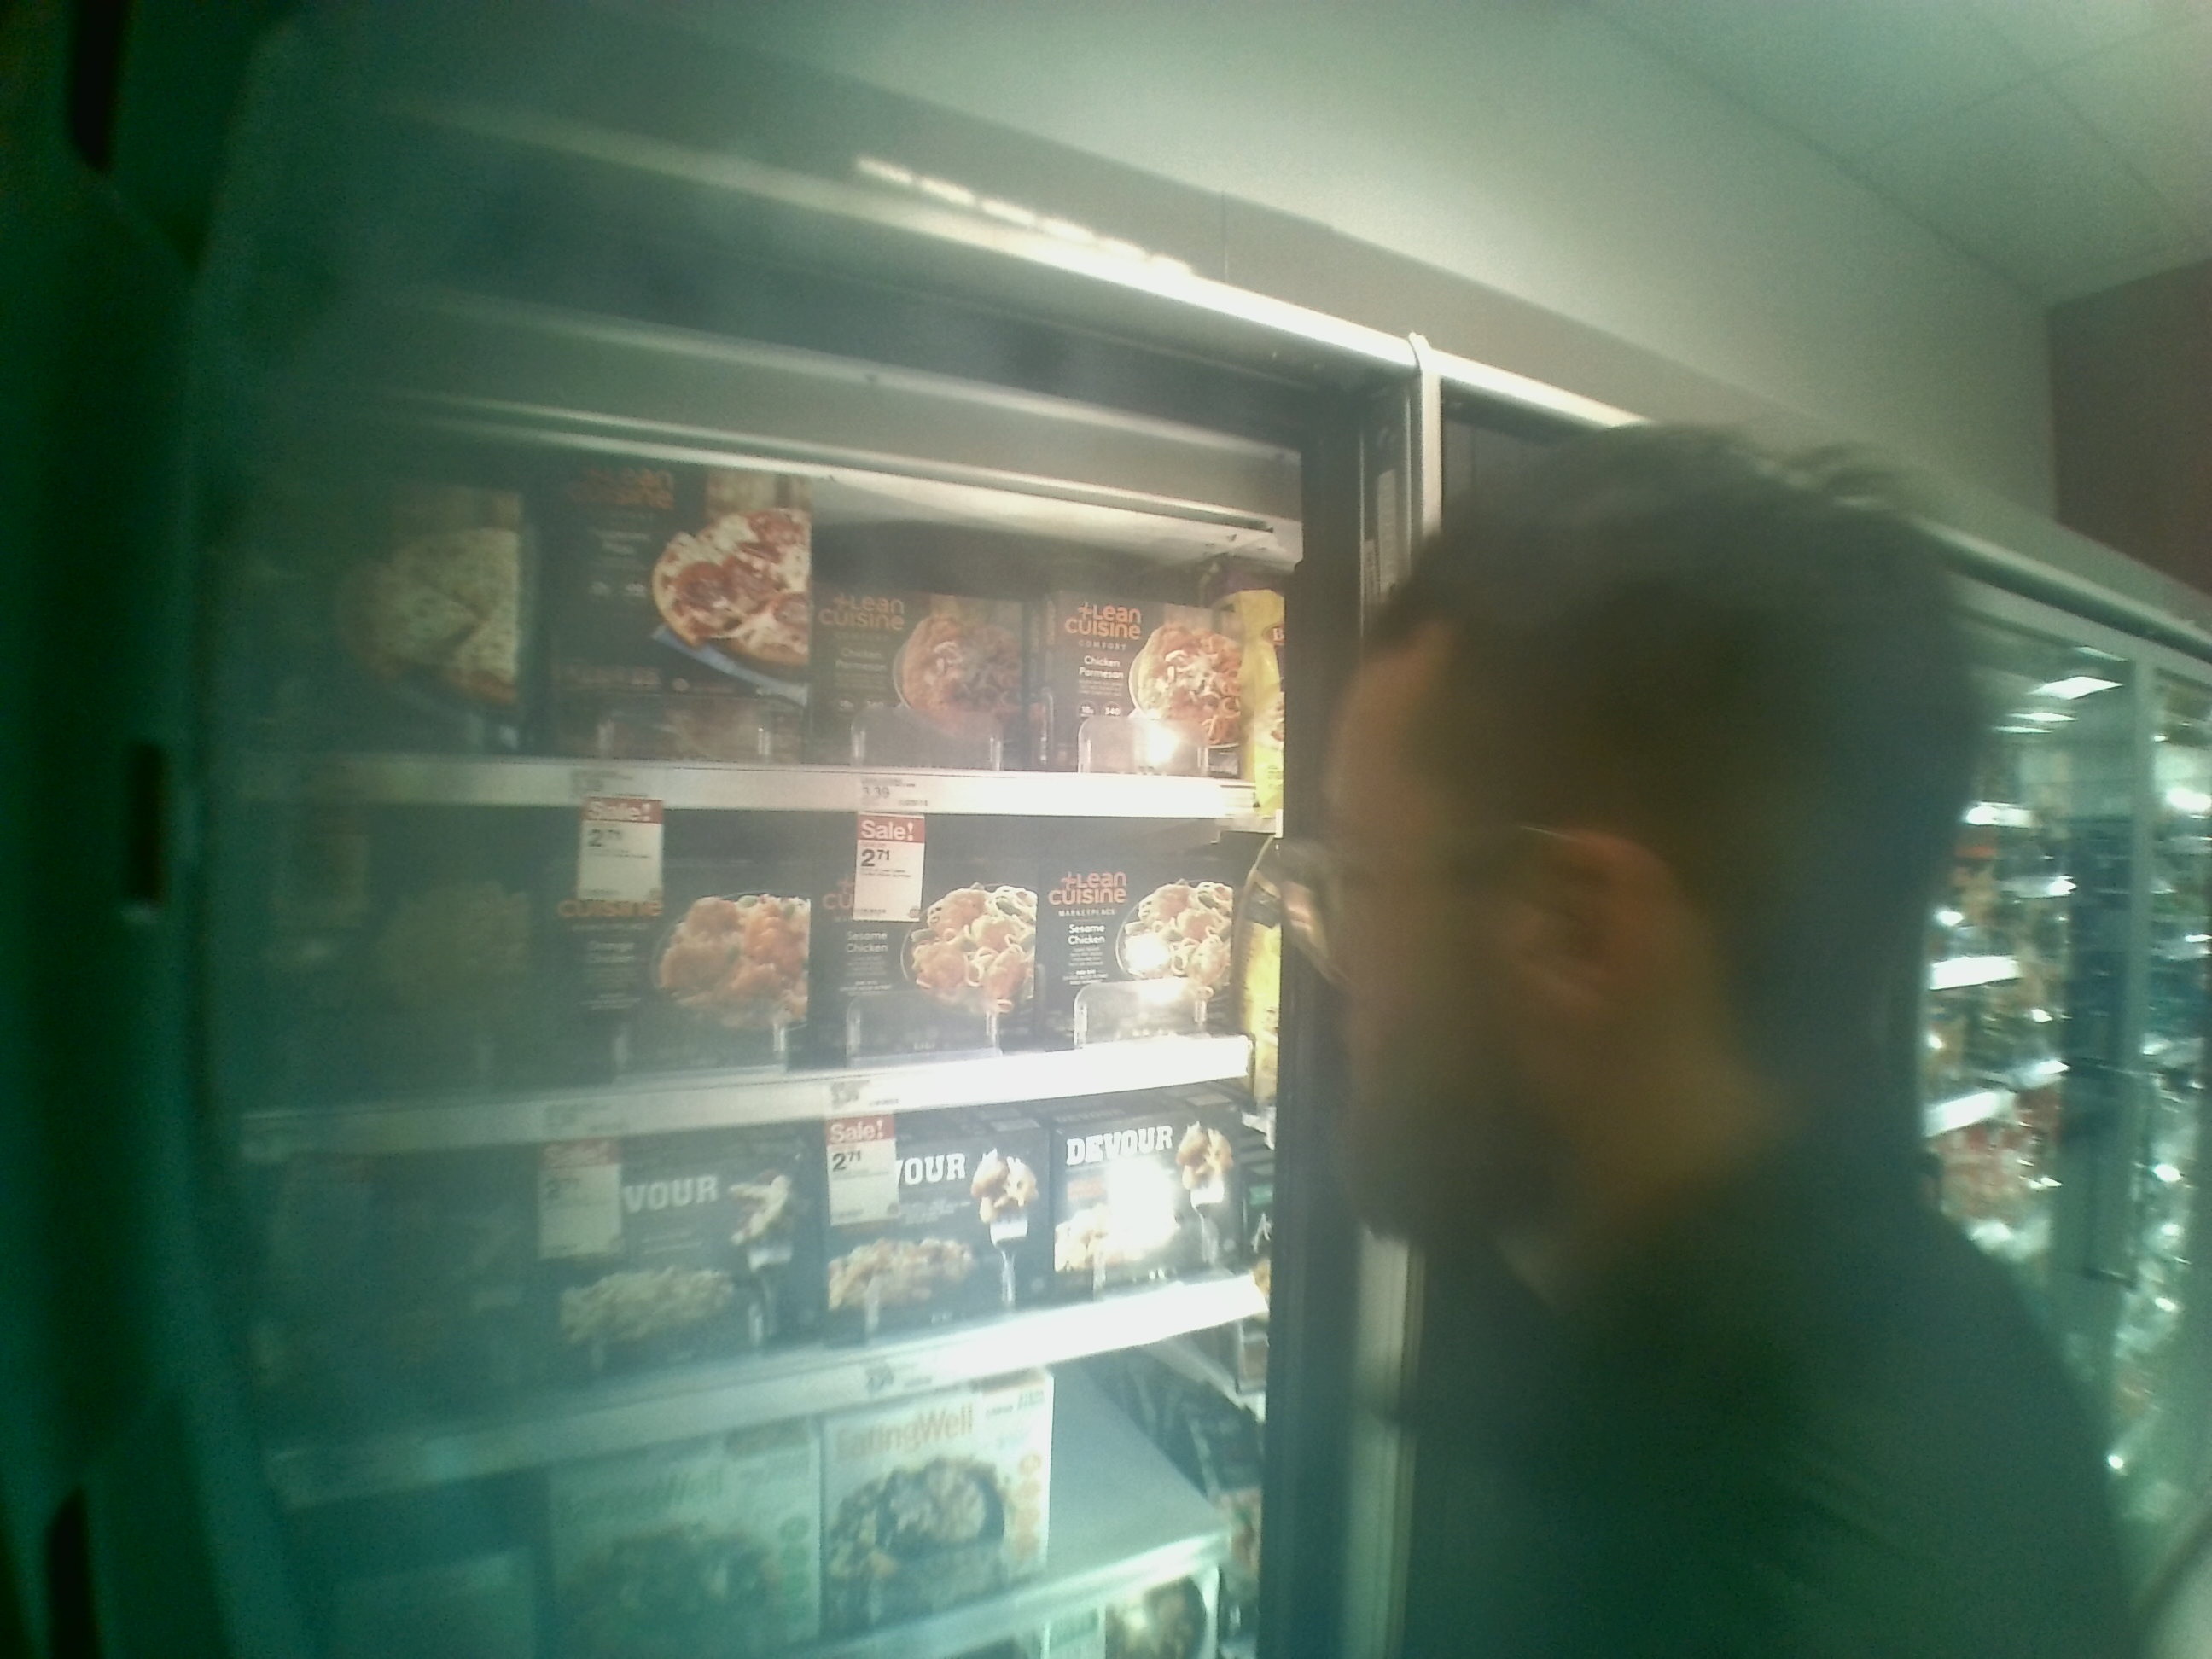shelf: (230, 1068, 1273, 1502), (246, 416, 1270, 823), (228, 807, 1303, 1185)
